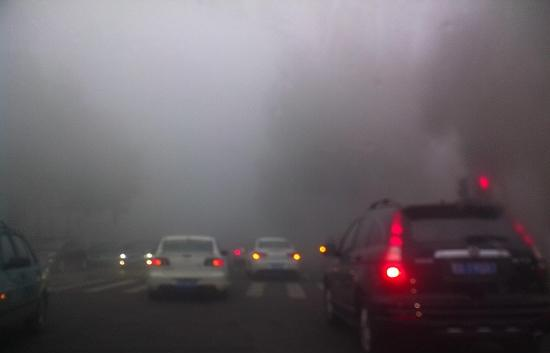car: (319, 192, 550, 353), (145, 235, 231, 300), (1, 218, 47, 333), (244, 235, 301, 282), (33, 237, 88, 274)
